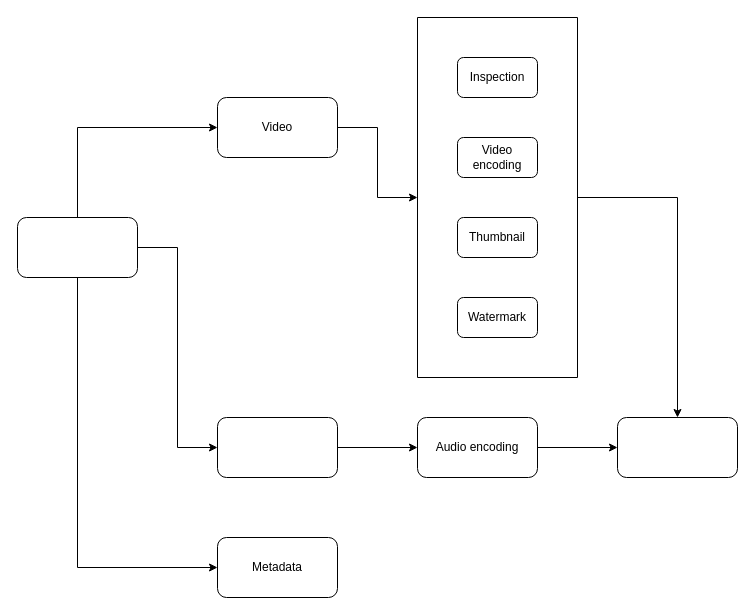
Some shapes in this 755 by 615 pixel diagram are drawn without their labels. Here are the shapes that lost their labels. From the top down, the box of each, then its label:
(16, 216, 138, 278): Original video
(216, 416, 338, 478): Audio
(616, 416, 738, 478): Assemble
